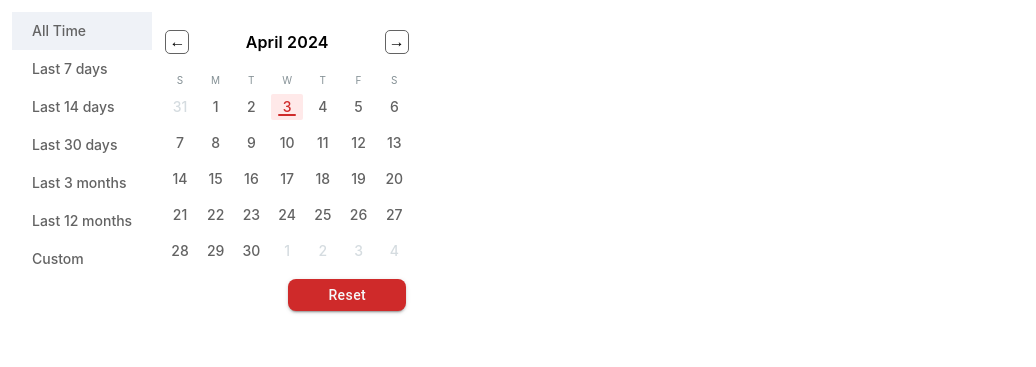
Scenario: DateRange › should render the component and handle date selections
Click the button "Last 7 days" at (82, 69), box left=12, top=50, right=152, bottom=88
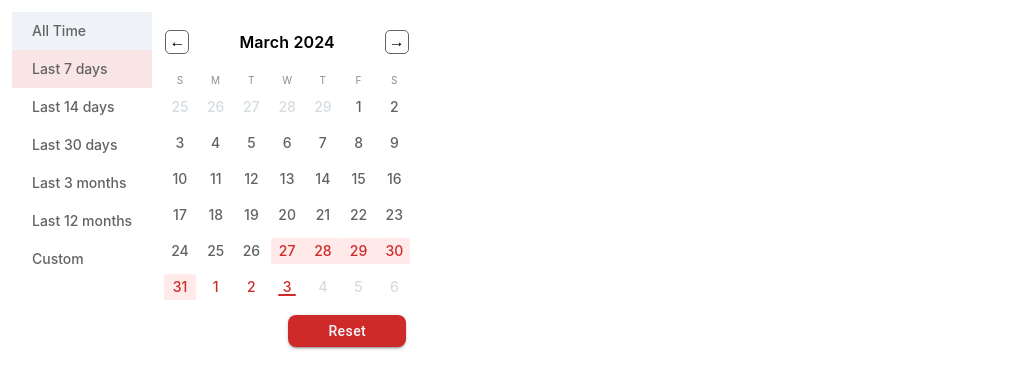
Click the button "Custom" at (82, 259), box left=12, top=240, right=152, bottom=278
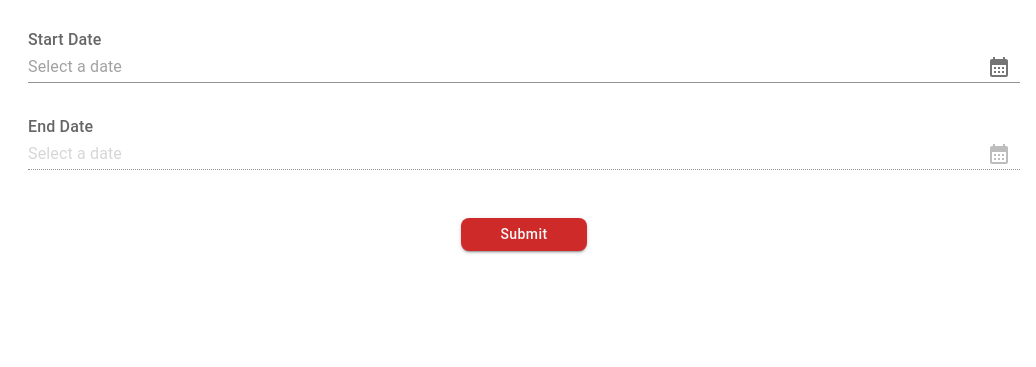
Result: the text "Start Date" is shown at left=28, top=28, right=102, bottom=51
Result: the text "End Date" is shown at left=28, top=115, right=93, bottom=138
